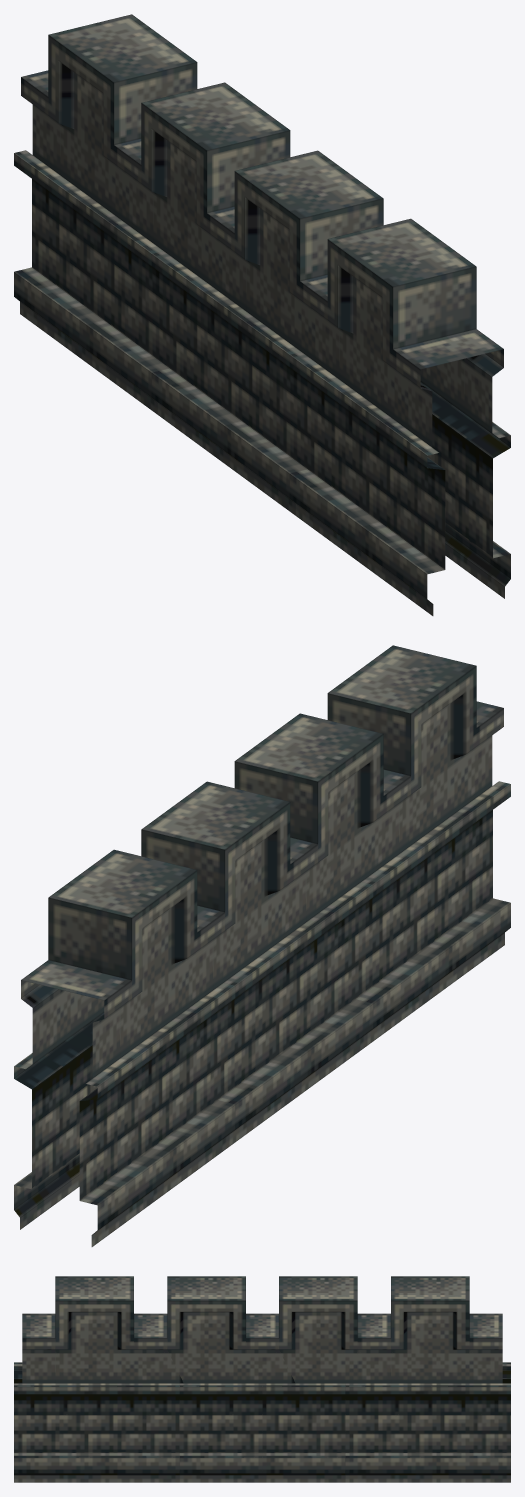
Rendered from EnvBdgMD_Castle_Rain_A_WallTopDeco_A_250H.FBX.
3 renders of one model, top to bottom at view 1: azimuth 30°, elevation 25°; view 2: azimuth 150°, elevation 25°; view 3: azimuth 270°, elevation 25°, orthographic. The views are drawn at different scales.
Parts seen in each view (by area): view 1: EnvBdgMD_Castle_Rain_A_WallTopDeco_A_250H; view 2: EnvBdgMD_Castle_Rain_A_WallTopDeco_A_250H; view 3: EnvBdgMD_Castle_Rain_A_WallTopDeco_A_250H.
Part boxes in pixels (left/top/right/bottom): EnvBdgMD_Castle_Rain_A_WallTopDeco_A_250H: left=14, top=14, right=510, bottom=615; EnvBdgMD_Castle_Rain_A_WallTopDeco_A_250H: left=14, top=645, right=510, bottom=1246; EnvBdgMD_Castle_Rain_A_WallTopDeco_A_250H: left=14, top=1276, right=510, bottom=1482.
Size of the model in its own units: 70 by 245 by 600.
